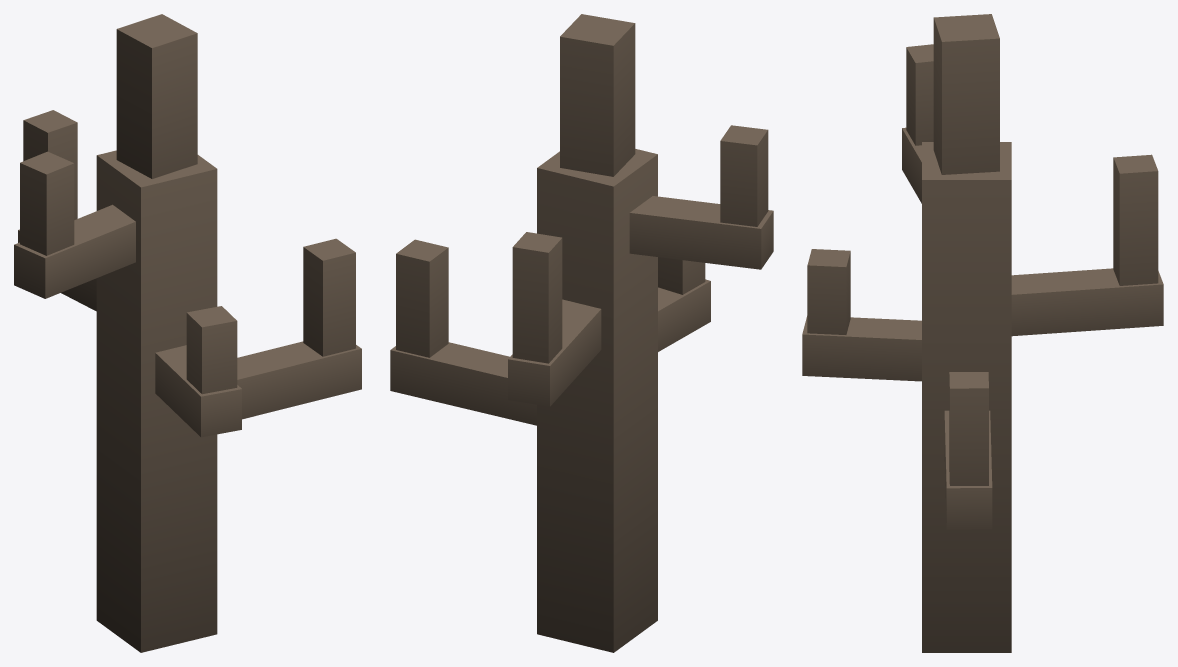
Rendered from A09_dead_tree.glb.
3 renders of one model, left to right at view 1: azimuth 30°, elevation 25°; view 2: azimuth 150°, elevation 25°; view 3: azimuth 270°, elevation 25°, orthographic.
Parts seen in each view (by area): view 1: A09_dead_tree; view 2: A09_dead_tree; view 3: A09_dead_tree.
Boxes of the visible parts, x1,y1,x2,y2 form: A09_dead_tree: (14, 14, 361, 652); A09_dead_tree: (390, 14, 773, 652); A09_dead_tree: (802, 14, 1163, 652).
Bounding box in the file's own units: 2.5 × 4.1 × 2.22.
